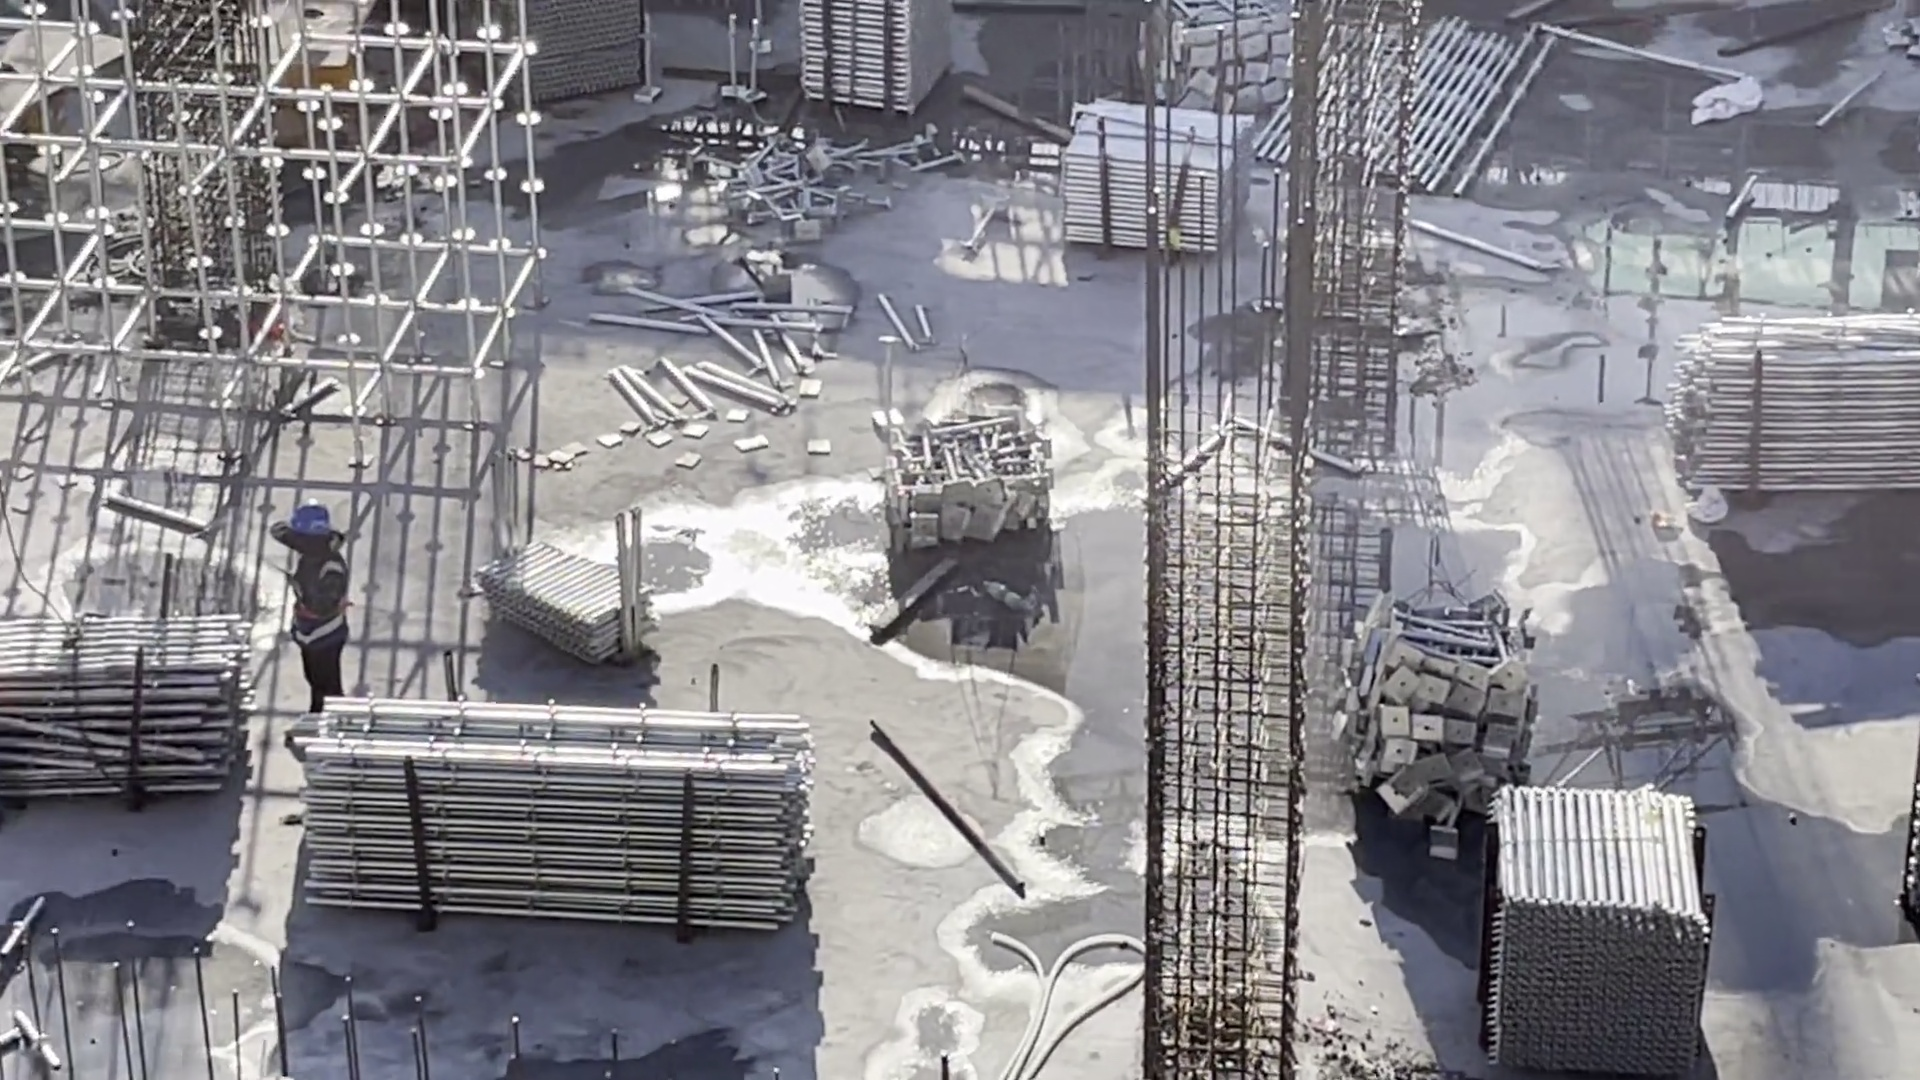cutter: (1, 7, 141, 200), (217, 1, 382, 145)
helmet: (281, 501, 343, 556)
person: (251, 491, 359, 763)
scaffold: (278, 675, 820, 919), (1476, 781, 1718, 1055), (1, 604, 283, 790), (1349, 600, 1521, 830), (1676, 319, 1920, 479), (1069, 93, 1262, 260), (476, 537, 687, 655), (1143, 1, 1338, 128), (795, 1, 980, 121), (726, 126, 902, 252), (867, 407, 1048, 526)
vest: (275, 554, 349, 646)
